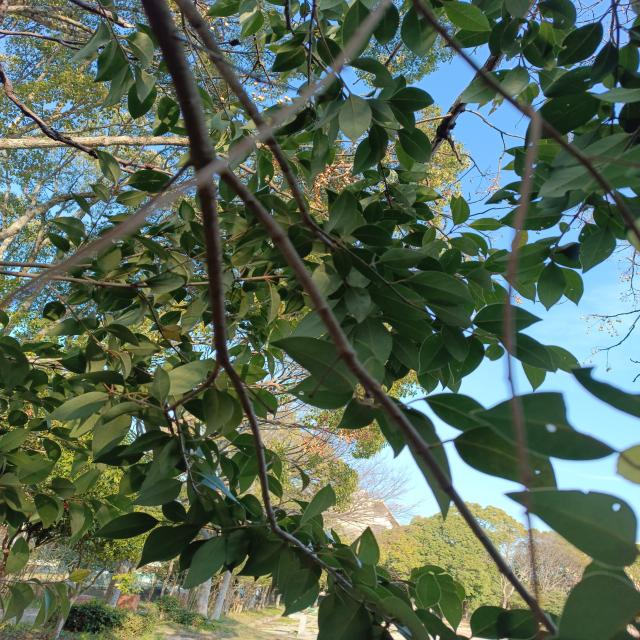Twig: (215, 161, 560, 635), (0, 2, 391, 311), (142, 0, 341, 579), (178, 1, 400, 297), (414, 1, 640, 234), (1, 65, 174, 176), (7, 5, 205, 80), (0, 180, 188, 240), (0, 30, 228, 59), (0, 270, 287, 288), (0, 136, 193, 149), (70, 0, 135, 28)
